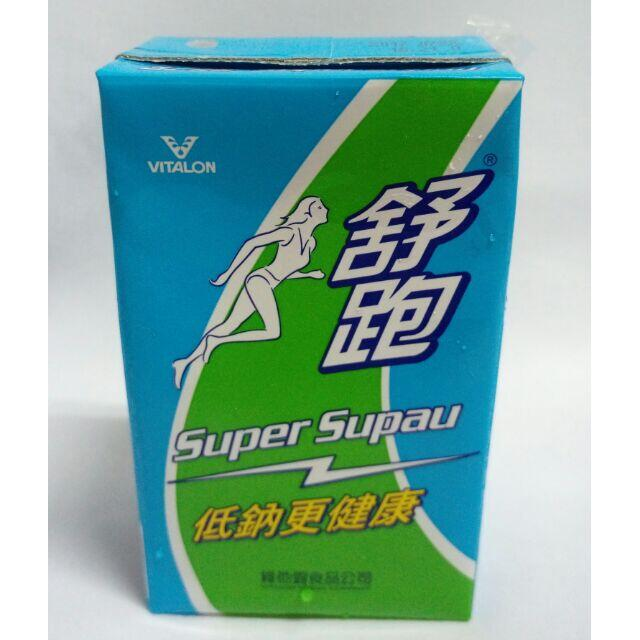鋁箔包: (86, 29, 525, 627)
